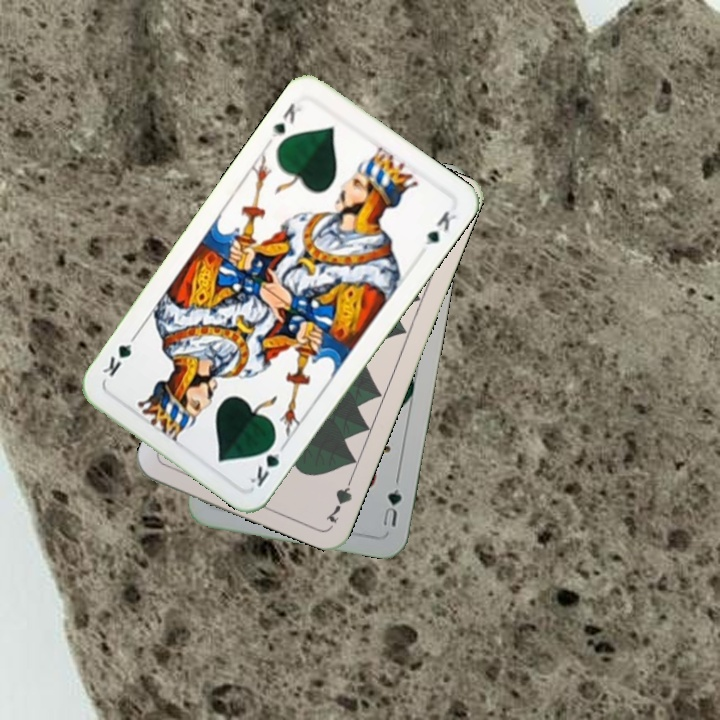G7: (321, 470, 357, 526)
GK: (244, 435, 289, 490), (267, 98, 305, 140)
GU: (378, 484, 404, 529)
